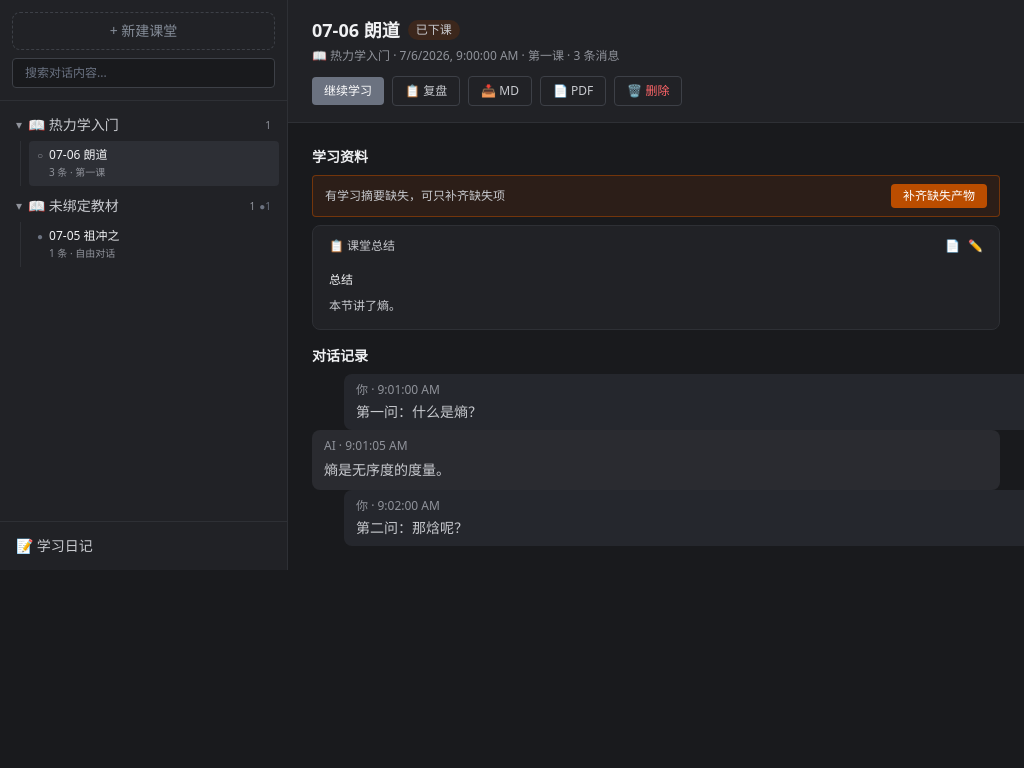
Scenario: HistoryView — search › shows the empty state for fruitless searches and can clear them
Expected: the text "第一问：什么是熵？" is shown, [356,402,482,421]
Type "zzz" into the field with placeholder "搜索对话内容...".
click(144, 73); type("zzz")  # box [12,58,275,88]
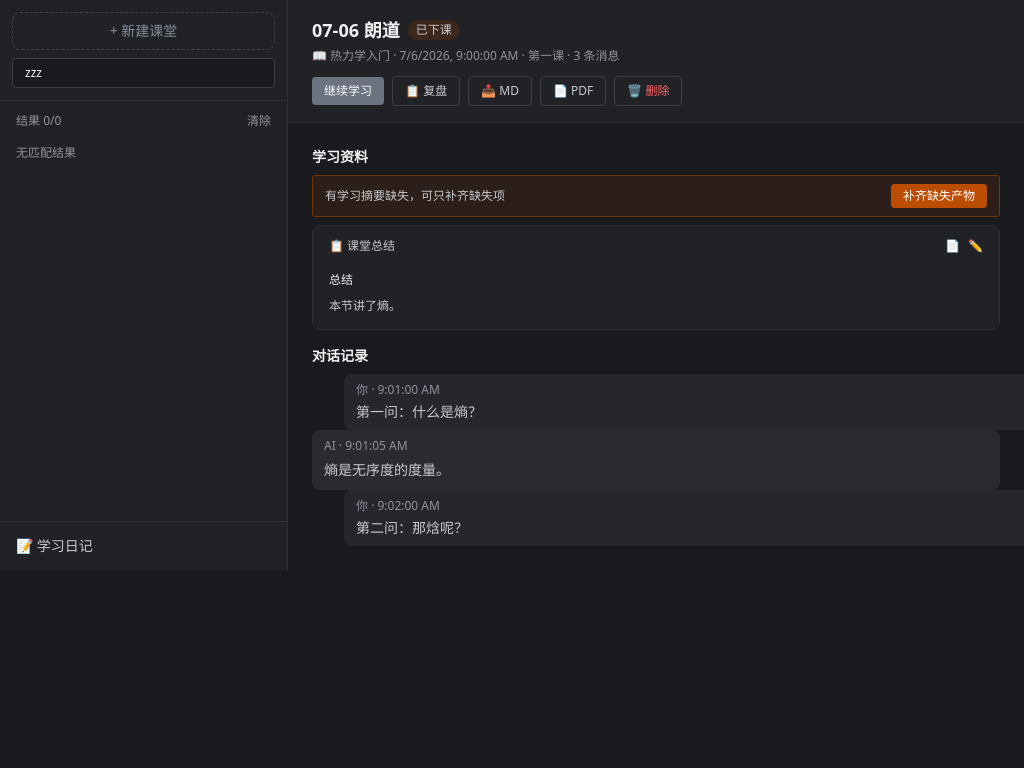
Expected: the text "结果 0/0" is shown, [16,113,61,129]
Expected: the text "无匹配结果" is shown, [16,144,76,161]
Click the button "清除".
click(259, 121)  # box [247,113,271,129]
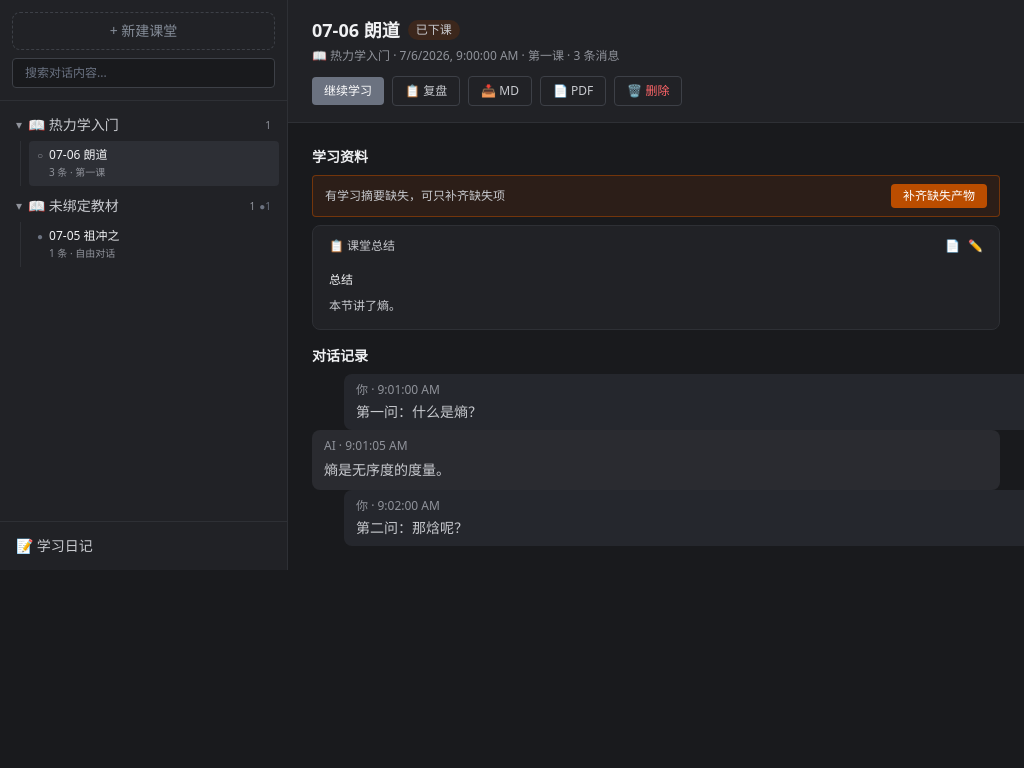
Expected: the text "结果 0/0" is gone
Expected: the text "07-06 朗道" is shown, [49,147,108,163]
